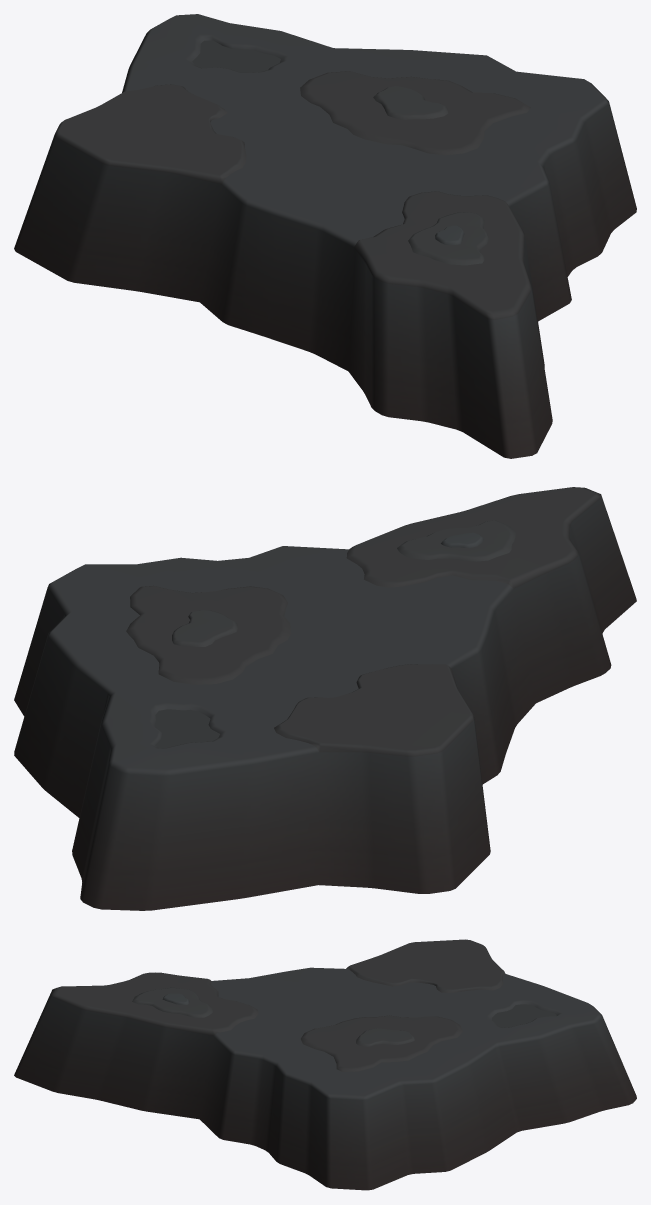
File: Platform_003.glb
3 renders of one model, top to bottom at view 1: azimuth 30°, elevation 25°; view 2: azimuth 150°, elevation 25°; view 3: azimuth 270°, elevation 25°, orthographic. The views are drawn at different scales.
Parts seen in each view (by area): view 1: Platform_003; view 2: Platform_003; view 3: Platform_003.
Part boxes in pixels (x1=…): Platform_003: x1=14, y1=14, x2=636, y2=458; Platform_003: x1=14, y1=487, x2=636, y2=910; Platform_003: x1=14, y1=939, x2=636, y2=1190.
Size of the model in its own units: 67.04 by 15.96 by 100.
Materials: 1 (1 with a texture image).
